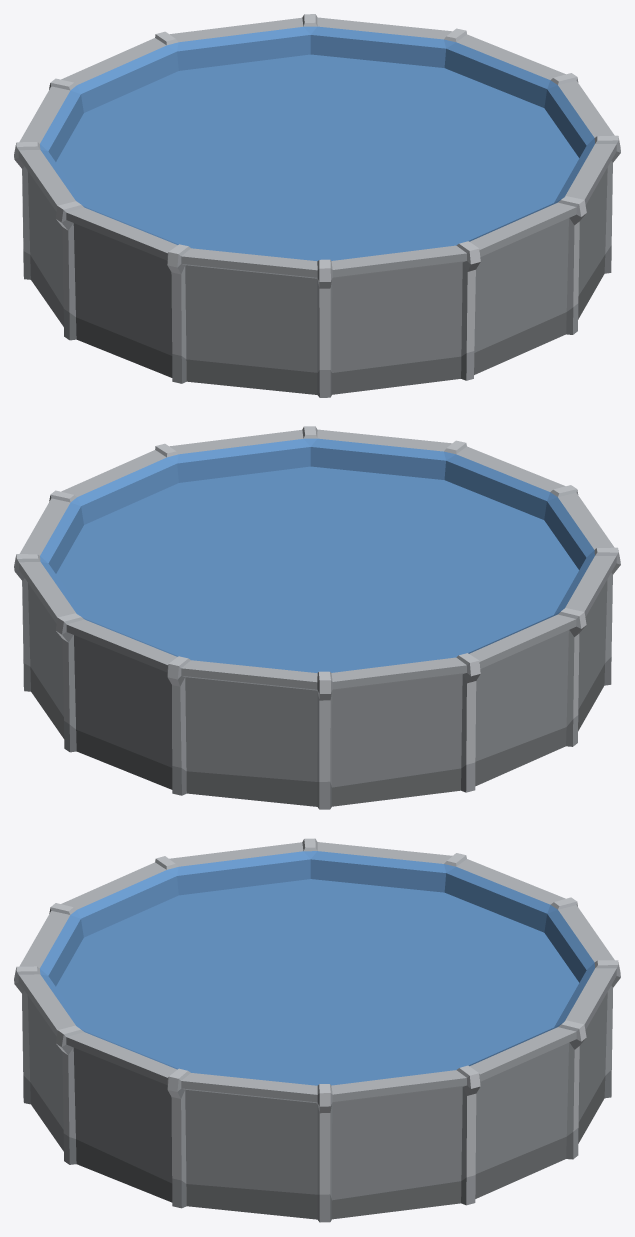
The model's file is SM_Prop_Pool_Aboveground_01.fbx.
The picture shows the model from 3 angles, top to bottom: view 1: azimuth 30°, elevation 25°; view 2: azimuth 150°, elevation 25°; view 3: azimuth 270°, elevation 25°; orthographic projection.
Visible parts, largest first — view 1: SM_Prop_Pool_Aboveground_01, SM_Prop_Pool_Aboveground_Water_01; view 2: SM_Prop_Pool_Aboveground_01, SM_Prop_Pool_Aboveground_Water_01; view 3: SM_Prop_Pool_Aboveground_01, SM_Prop_Pool_Aboveground_Water_01.
Part boxes in pixels (bbox=[...]): SM_Prop_Pool_Aboveground_01: bbox=[14, 14, 620, 397]; SM_Prop_Pool_Aboveground_Water_01: bbox=[56, 54, 579, 261]; SM_Prop_Pool_Aboveground_01: bbox=[14, 426, 620, 809]; SM_Prop_Pool_Aboveground_Water_01: bbox=[56, 466, 578, 672]; SM_Prop_Pool_Aboveground_01: bbox=[14, 838, 620, 1222]; SM_Prop_Pool_Aboveground_Water_01: bbox=[56, 879, 578, 1085].
Size of the model in its own units: 561 by 135 by 560.
